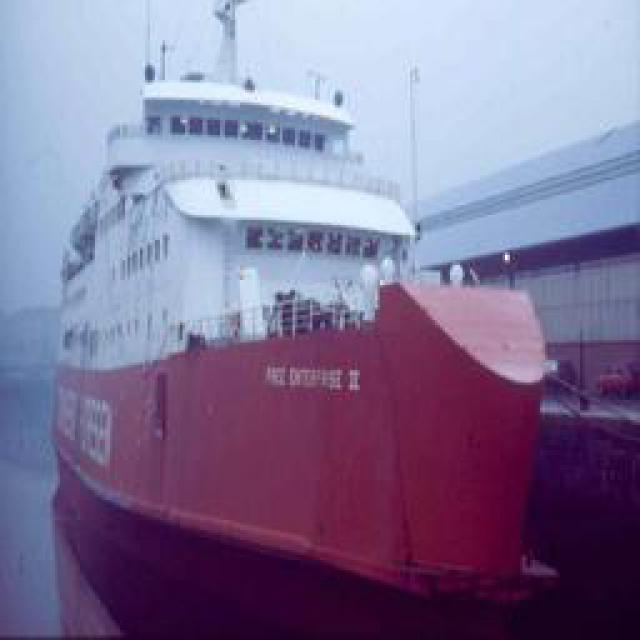Ship: (57, 4, 565, 624)
